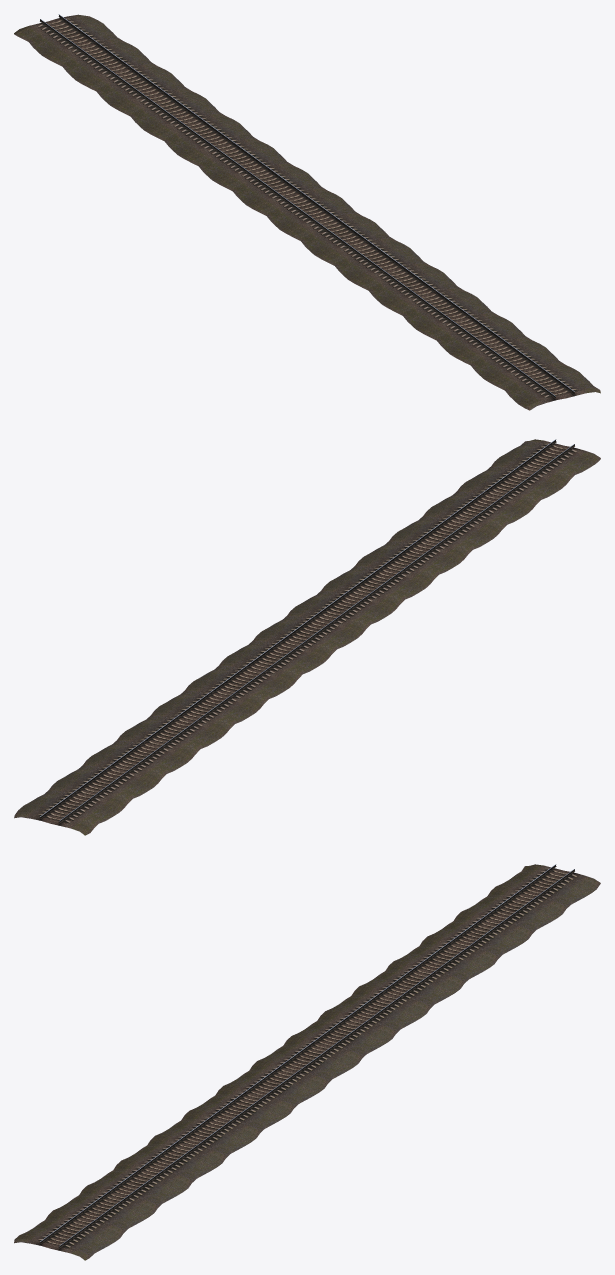
File: 1track_75_TSM.gltf
3 views of the same model, one above another, from view 1: azimuth 30°, elevation 25°; view 2: azimuth 150°, elevation 25°; view 3: azimuth 330°, elevation 25° (orthographic).
Bounding box in the file's own units: 6.7 × 0.6438 × 75.8.
1 material, 1 textured.
